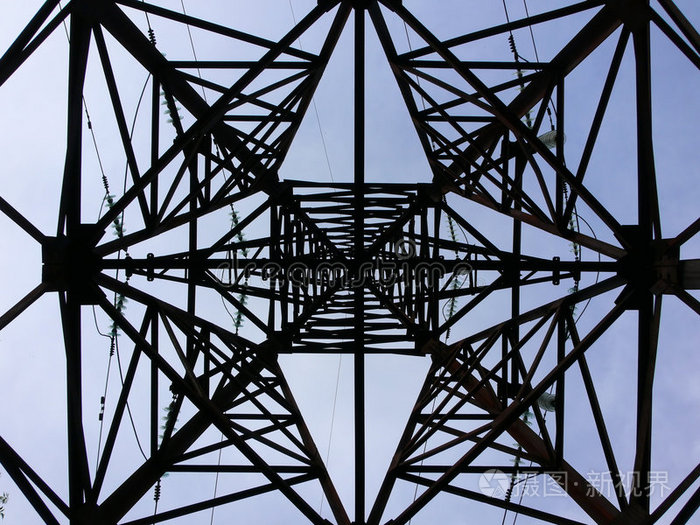insulator: (228, 208, 253, 256), (103, 191, 126, 235), (106, 297, 128, 338), (160, 92, 184, 126), (229, 294, 249, 329)
